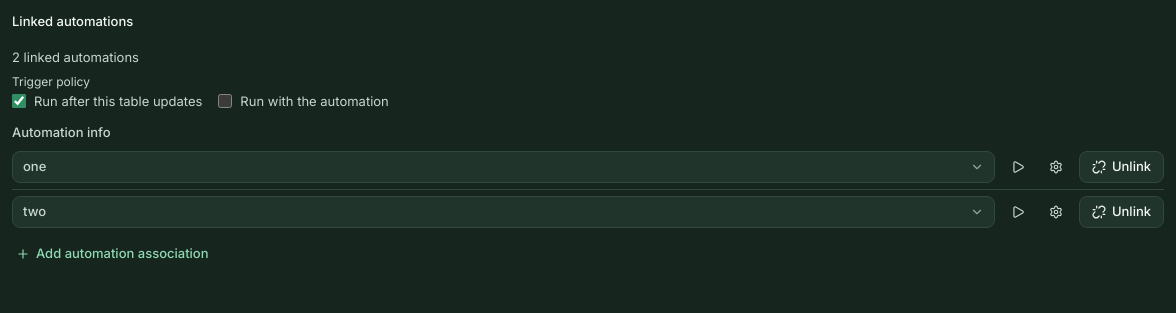
table association conditions › switches an existing raw association directly from its row
Click the dropdown labelled "one". click: (35, 166)
box: top-left (12, 150), bottom-right (995, 182)
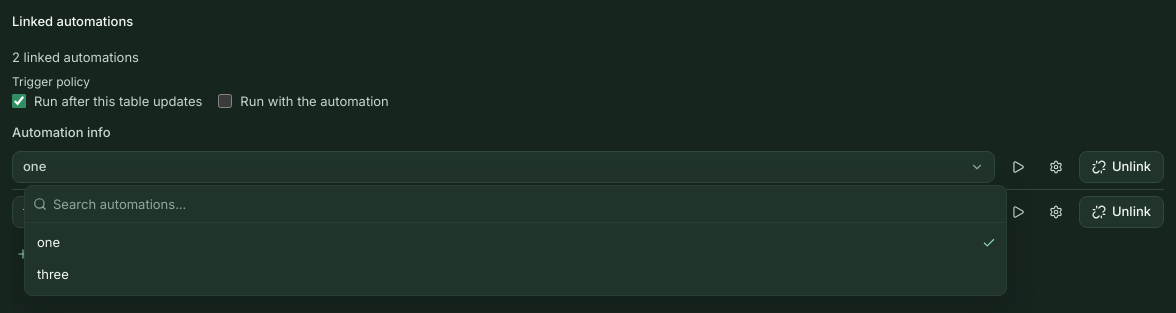
Result: the option "one" is shown at top-left (37, 234), bottom-right (996, 250)
Click the option "three". click: (53, 274)
box: top-left (37, 266), bottom-right (69, 282)
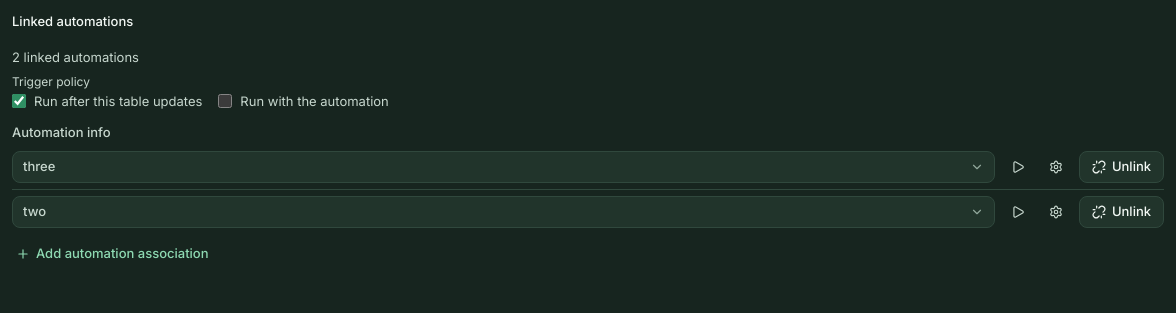
Result: the list item "three" is shown at top-left (12, 150), bottom-right (1164, 190)
Result: the dropdown labelled "one" is gone
Result: the dropdown labelled "three" is shown at top-left (12, 150), bottom-right (995, 182)
